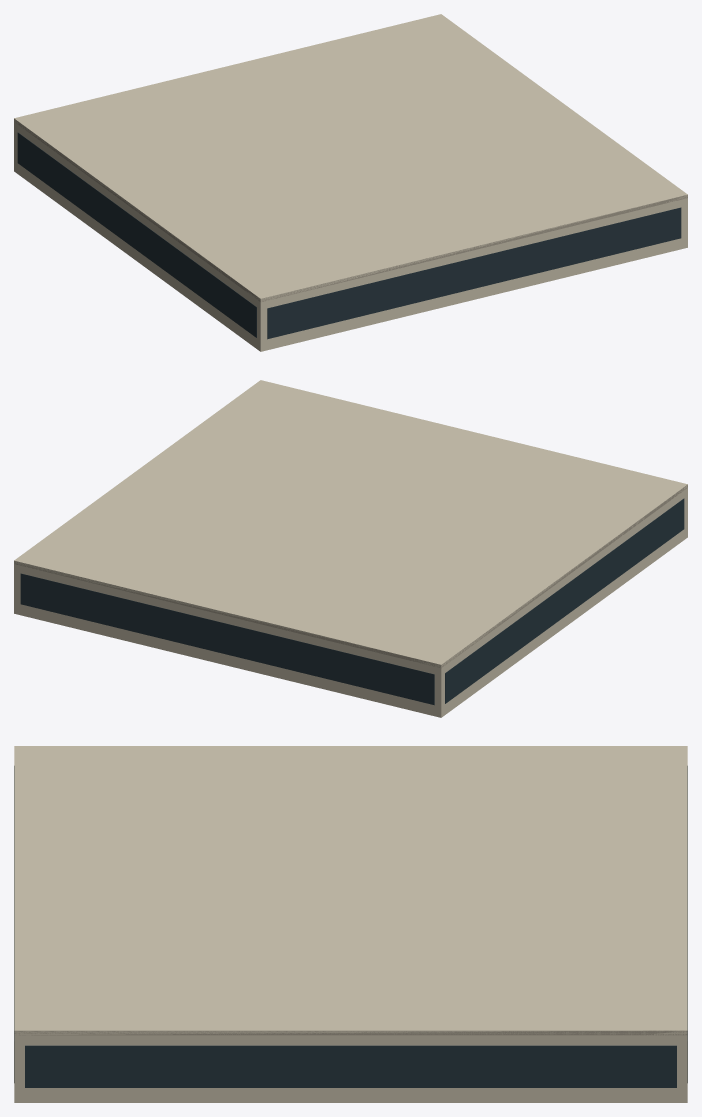
The model's file is tw_deco_32_floor_lod1.glb.
3 renders of one model, top to bottom at view 1: azimuth 30°, elevation 25°; view 2: azimuth 150°, elevation 25°; view 3: azimuth 270°, elevation 25°, orthographic. The views are drawn at different scales.
Visible parts, largest first — view 1: tw_deco_32_floor_lod1; view 2: tw_deco_32_floor_lod1; view 3: tw_deco_32_floor_lod1.
Part boxes in pixels (x1,y1,x2,y2): tw_deco_32_floor_lod1: [14, 14, 687, 351]; tw_deco_32_floor_lod1: [14, 380, 687, 717]; tw_deco_32_floor_lod1: [14, 746, 687, 1102].
Bounding box in the file's own units: 32.04 × 3.8 × 32.04.
Materials: 1 (1 with a texture image).
